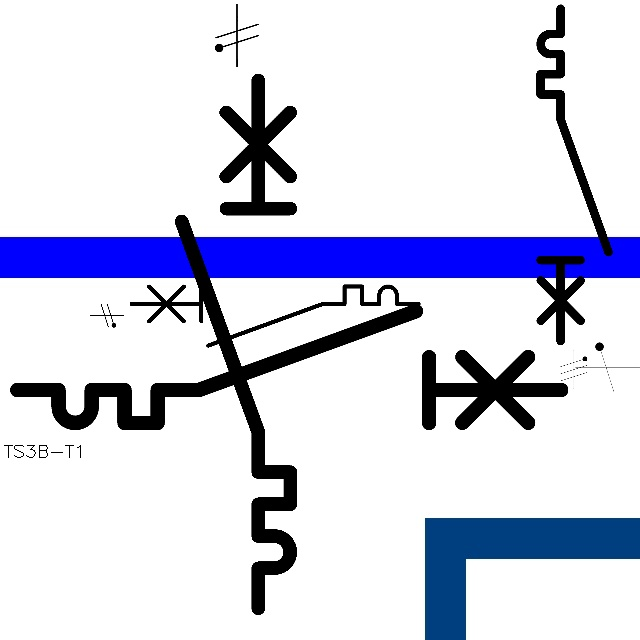interruptor_termomagnetico: (3, 297, 575, 437), (168, 66, 304, 622), (532, 0, 617, 349), (124, 279, 426, 353)
